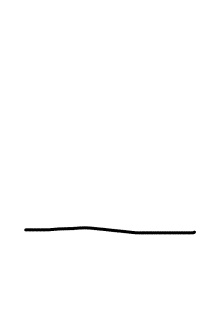Line: (20, 223, 199, 239)
